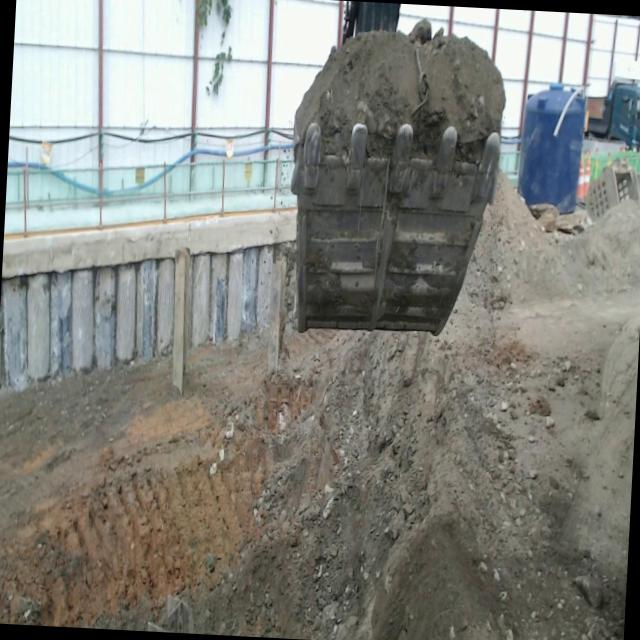white-sand: (0, 179, 640, 640), (294, 20, 505, 165)
